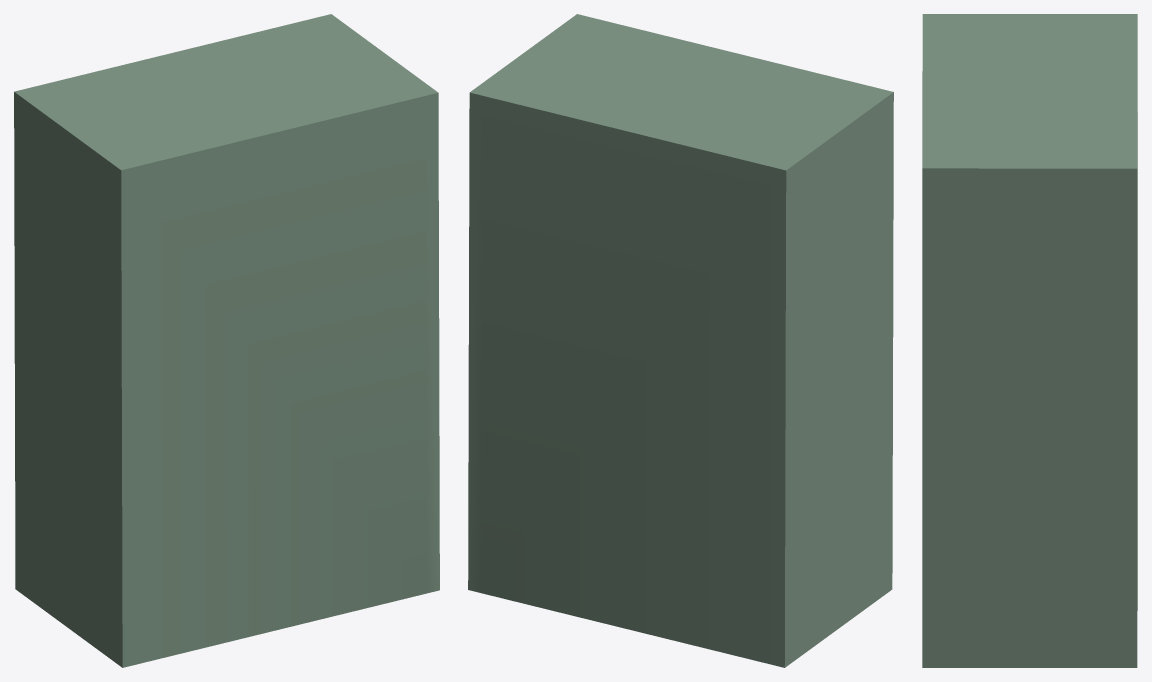
Rendered from MSH_QuestObject_cabinet_09.fbx.
3 views of the same model, side by side, from view 1: azimuth 30°, elevation 25°; view 2: azimuth 150°, elevation 25°; view 3: azimuth 270°, elevation 25° (orthographic).
Visible parts, largest first — view 1: MSH_QuestObject_cabinet_09; view 2: MSH_QuestObject_cabinet_09; view 3: MSH_QuestObject_cabinet_09.
Boxes of the visible parts, x1,y1,x2,y2 form: MSH_QuestObject_cabinet_09: [14, 14, 439, 667]; MSH_QuestObject_cabinet_09: [468, 14, 893, 667]; MSH_QuestObject_cabinet_09: [922, 14, 1137, 667].
Size of the model in its own units: 0.9028 by 1.35 by 0.5282.
